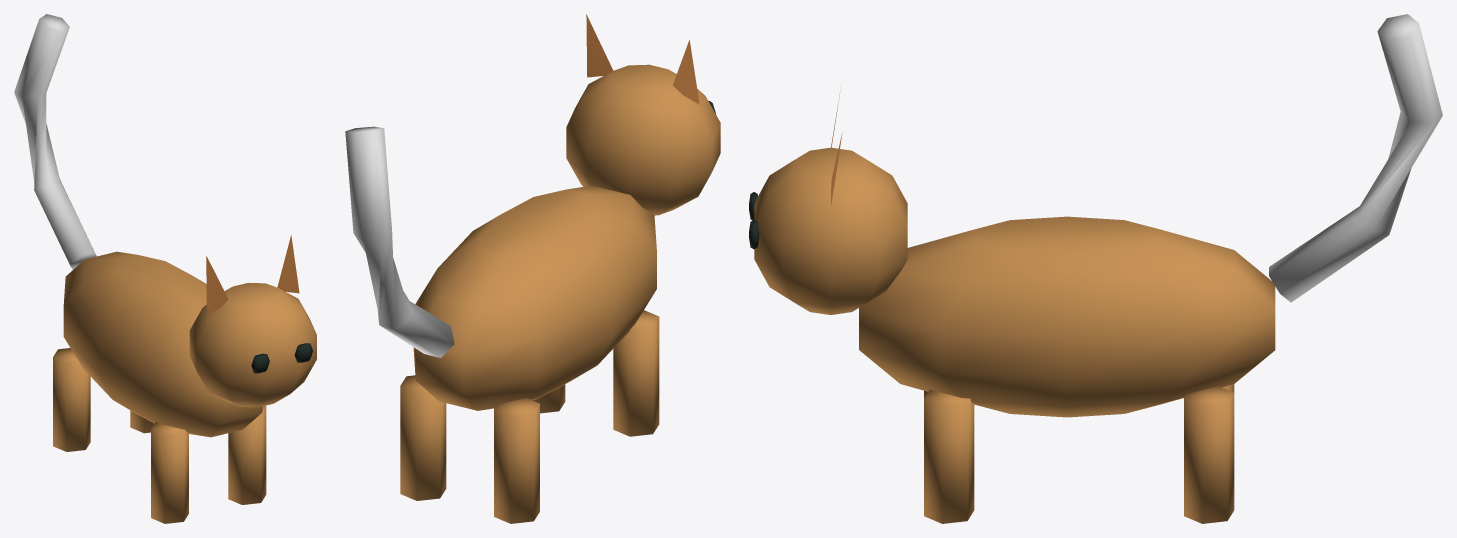
The model's file is Cat.fbx.
The picture shows the model from 3 angles, left to right: view 1: azimuth 30°, elevation 25°; view 2: azimuth 150°, elevation 25°; view 3: azimuth 270°, elevation 25°; orthographic projection. The views are drawn at different scales.
Parts seen in each view (by area): view 1: Cat, CatTail; view 2: Cat, CatTail; view 3: Cat, CatTail.
Part boxes in pixels (box(x1,y1,x2,y2)): Cat: box(53, 235, 316, 523); CatTail: box(14, 14, 96, 269); Cat: box(400, 14, 720, 523); CatTail: box(345, 126, 454, 357); Cat: box(749, 87, 1275, 523); CatTail: box(1269, 14, 1442, 302).
Size of the model in its own units: 0.1657 by 0.4452 by 0.5872.
